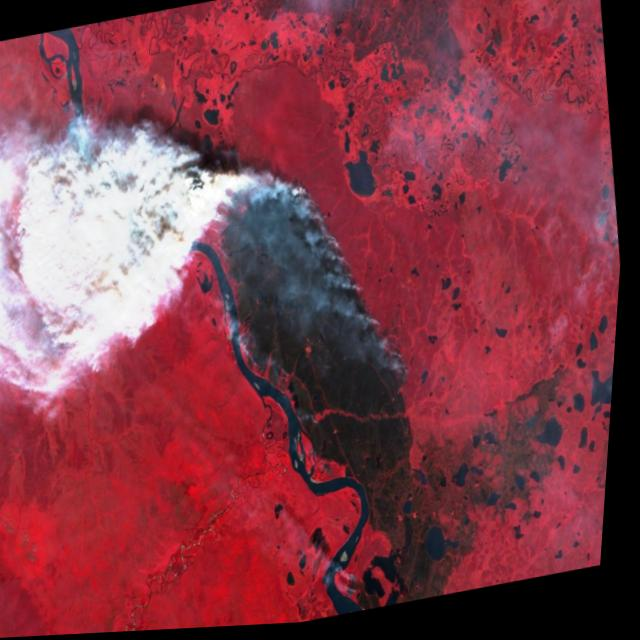fire: (181, 136, 437, 436)
